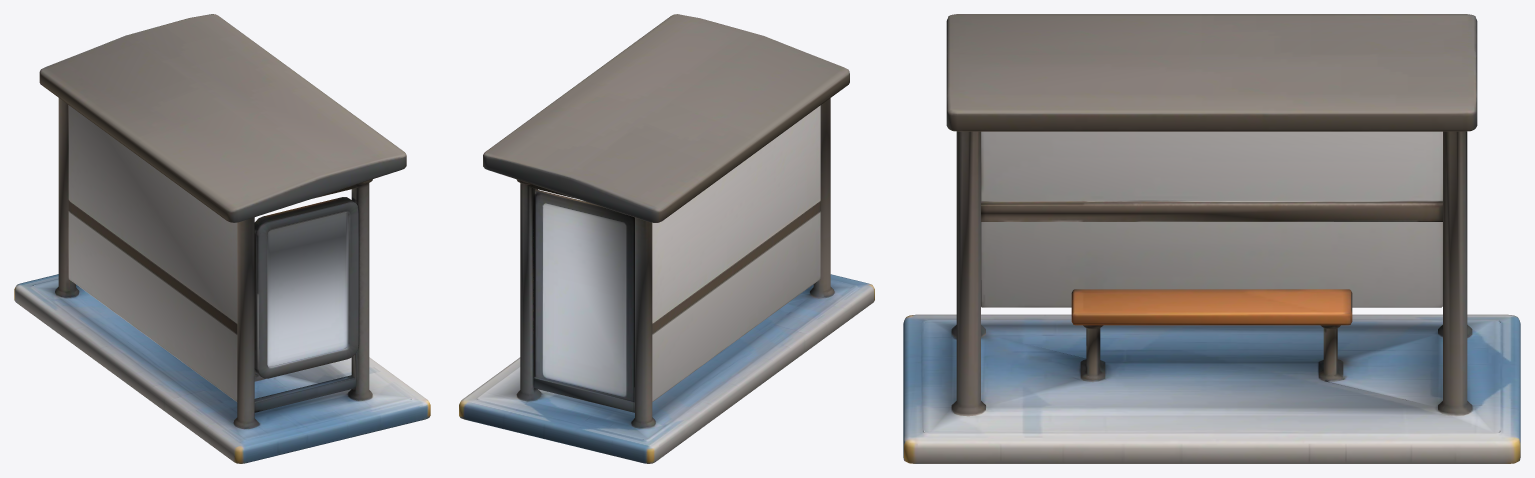
The model's file is bus_stop_realistic_style_8ac1d16e_v3.glb.
3 views of the same model, side by side, from view 1: azimuth 30°, elevation 25°; view 2: azimuth 150°, elevation 25°; view 3: azimuth 270°, elevation 25° (orthographic). The views are drawn at different scales.
Visible parts, largest first — view 1: texture_pbr_20250901; view 2: texture_pbr_20250901; view 3: texture_pbr_20250901.
Boxes of the visible parts, x1,y1,x2,y2 form: texture_pbr_20250901: (14, 14, 430, 463); texture_pbr_20250901: (459, 14, 874, 463); texture_pbr_20250901: (903, 14, 1520, 463).
Bounding box in the file's own units: 0.9492 × 1.18 × 1.9.
Materials: 1 (1 with a texture image).
